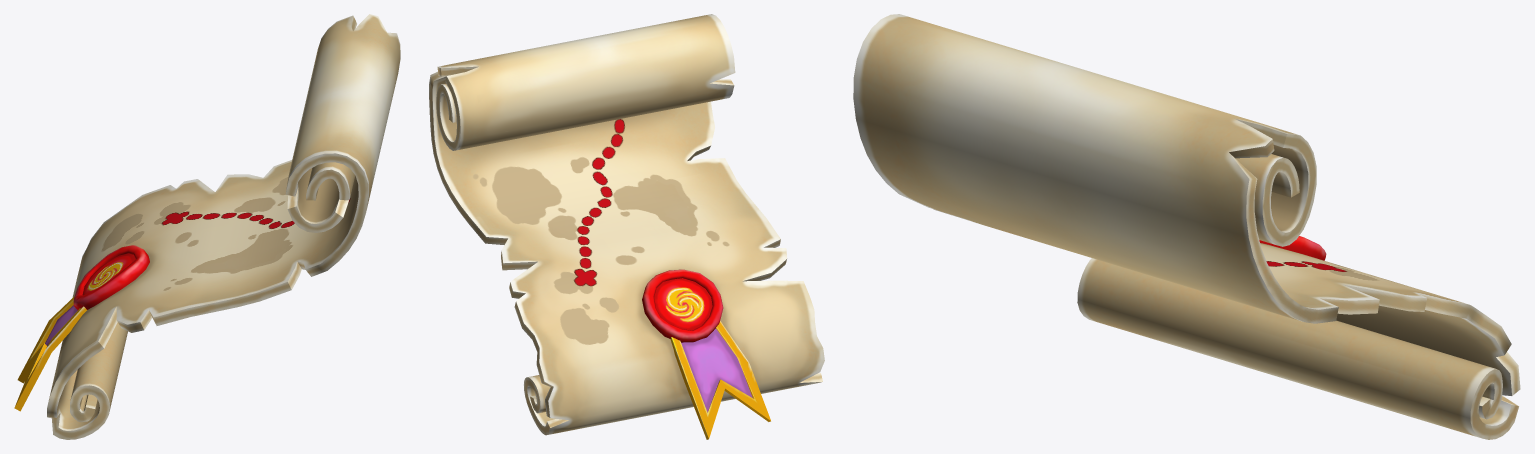
Rendered from map.glb.
3 renders of one model, left to right at view 1: azimuth 30°, elevation 25°; view 2: azimuth 150°, elevation 25°; view 3: azimuth 270°, elevation 25°, orthographic. The views are drawn at different scales.
Visible parts, largest first — view 1: Treasure Map; view 2: Treasure Map; view 3: Treasure Map.
Part boxes in pixels (x1=…): Treasure Map: x1=14, y1=14, x2=400, y2=439; Treasure Map: x1=429, y1=14, x2=824, y2=439; Treasure Map: x1=853, y1=14, x2=1520, y2=439.
Size of what is drawn, in the model's own units: 322 by 243 by 324.
1 material, 1 textured.
